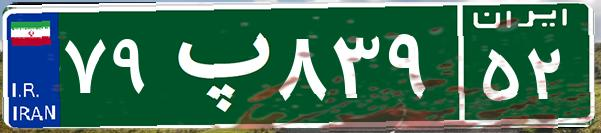2: (525, 38, 570, 115)
3: (330, 28, 385, 110)
5: (475, 38, 525, 113)
7: (57, 26, 110, 107)
8: (273, 28, 330, 110)
9: (385, 28, 445, 110), (110, 28, 158, 105)
پ: (158, 15, 273, 115)
